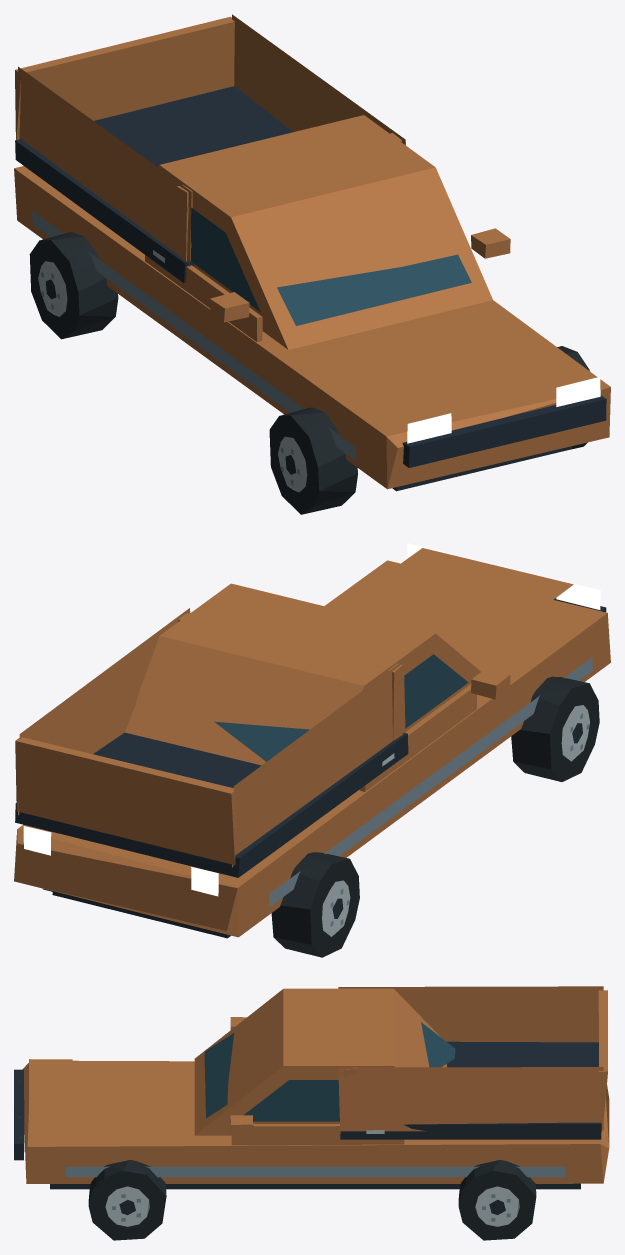
The model's file is road-pickup.lod2.glb.
3 views of the same model, one above another, from view 1: azimuth 30°, elevation 25°; view 2: azimuth 150°, elevation 25°; view 3: azimuth 270°, elevation 25° (orthographic). The views are drawn at different scales.
Visible parts, largest first — view 1: road-pickup__body, road-pickup__bed, road-pickup__tailgate, road-pickup__wheel_steer_0_l, road-pickup__wheel_steer_1_l, road-pickup__door_-1; view 2: road-pickup__body, road-pickup__bed, road-pickup__tailgate, road-pickup__wheel_steer_0_l, road-pickup__wheel_steer_1_l, road-pickup__door_-1; view 3: road-pickup__body, road-pickup__bed, road-pickup__door_1, road-pickup__wheel_steer_0_r, road-pickup__wheel_steer_1_r, road-pickup__tailgate.
Part boxes in pixels (x1=…): road-pickup__body: x1=14, y1=115, x2=610, y2=491; road-pickup__bed: x1=15, y1=14, x2=405, y2=282; road-pickup__tailgate: x1=15, y1=16, x2=234, y2=139; road-pickup__wheel_steer_0_l: x1=269, y1=407, x2=357, y2=514; road-pickup__wheel_steer_1_l: x1=29, y1=232, x2=118, y2=339; road-pickup__door_-1: x1=145, y1=207, x2=262, y2=341; road-pickup__body: x1=14, y1=543, x2=610, y2=938; road-pickup__bed: x1=15, y1=608, x2=408, y2=877; road-pickup__tailgate: x1=15, y1=737, x2=236, y2=864; road-pickup__wheel_steer_0_l: x1=511, y1=676, x2=599, y2=781; road-pickup__wheel_steer_1_l: x1=271, y1=852, x2=359, y2=957; road-pickup__door_-1: x1=359, y1=654, x2=476, y2=791; road-pickup__body: x1=14, y1=988, x2=610, y2=1189; road-pickup__bed: x1=338, y1=986, x2=603, y2=1139; road-pickup__door_1: x1=231, y1=1080, x2=404, y2=1145; road-pickup__wheel_steer_0_r: x1=88, y1=1160, x2=166, y2=1240; road-pickup__wheel_steer_1_r: x1=458, y1=1160, x2=536, y2=1240; road-pickup__tailgate: x1=598, y1=990, x2=607, y2=1126.
Size of the model in its own units: 2.24 by 1.55 by 5.19.
